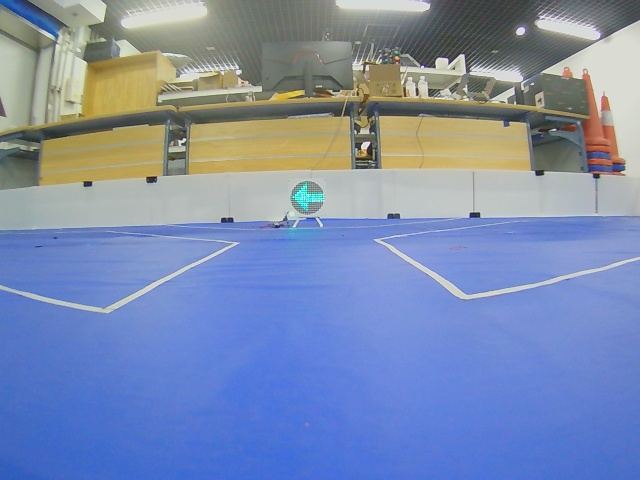left_green: (290, 180, 325, 216)
